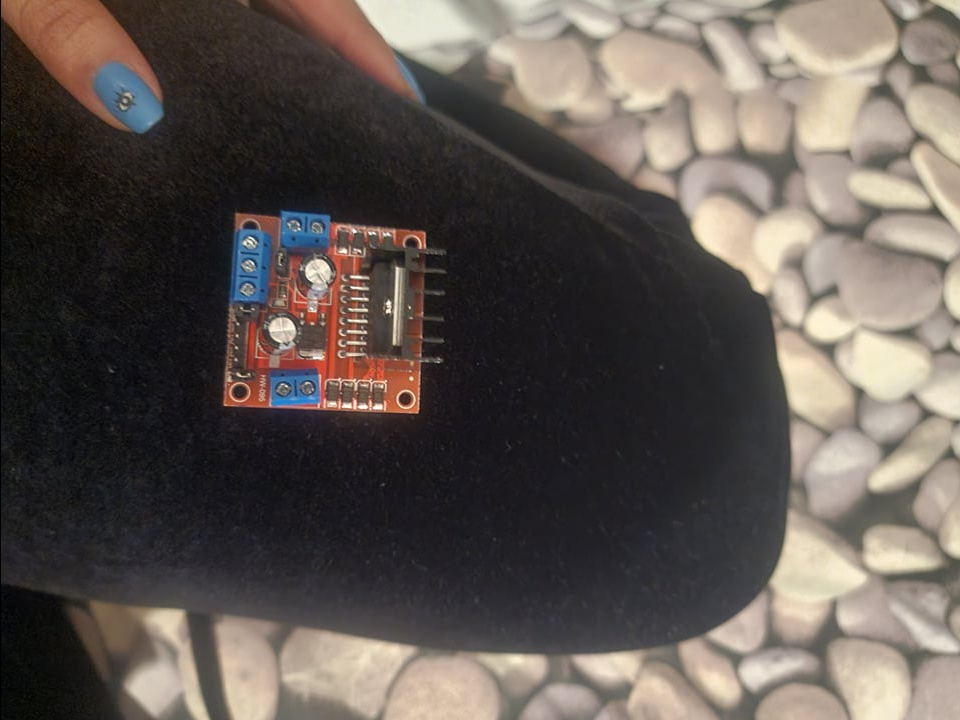MOTOR: (222, 205, 445, 413)
